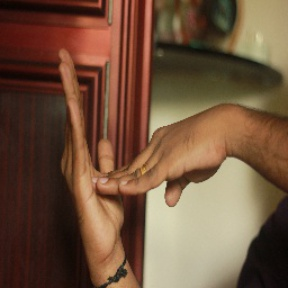Z: (48, 42, 229, 254)
